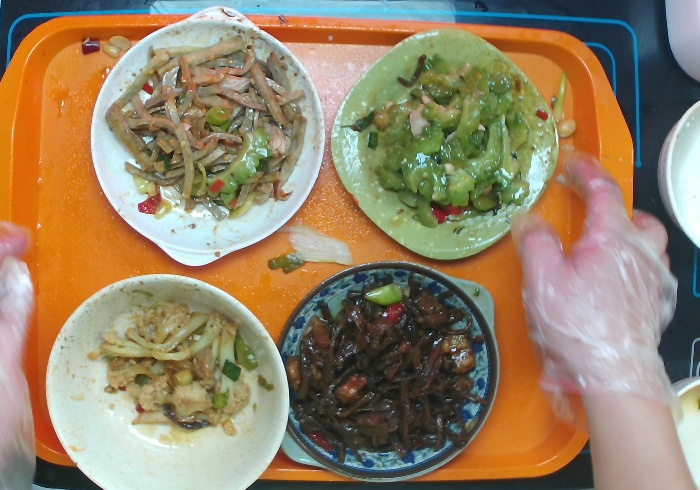NLDX-Bai_Se_Shuang_Er_Die: (83, 4, 328, 272)
NLDX-Bai_Se_Yuan_Wan: (37, 273, 292, 490)
NLDX-Lv_Hua_Fang_Die: (327, 21, 565, 267)
NLDX-Qing_Hua_Shuang_Er_Die: (273, 261, 507, 485)
